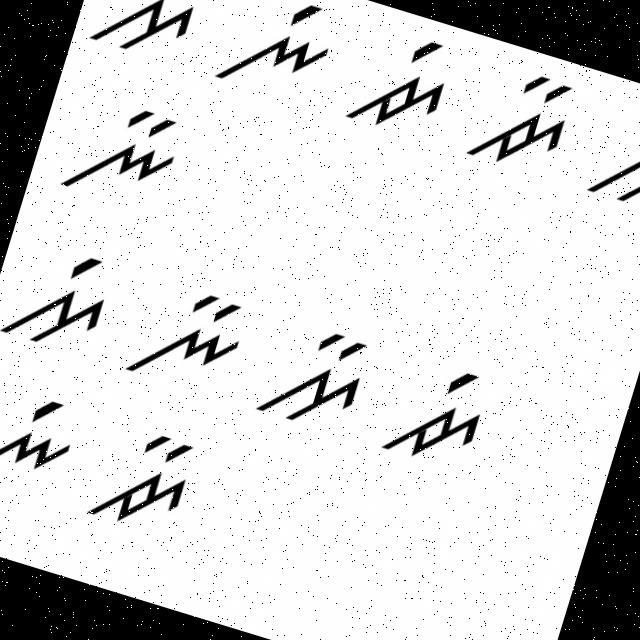jan: (78, 407, 205, 548), (463, 54, 589, 185)
jang: (378, 345, 509, 483), (340, 18, 462, 150)
nyan: (60, 86, 196, 220), (123, 272, 255, 408)
nyang: (208, 0, 345, 116), (0, 371, 91, 514)
sa: (581, 113, 639, 228)
san: (237, 304, 379, 448)
sang: (0, 230, 123, 366), (80, 0, 217, 74)
